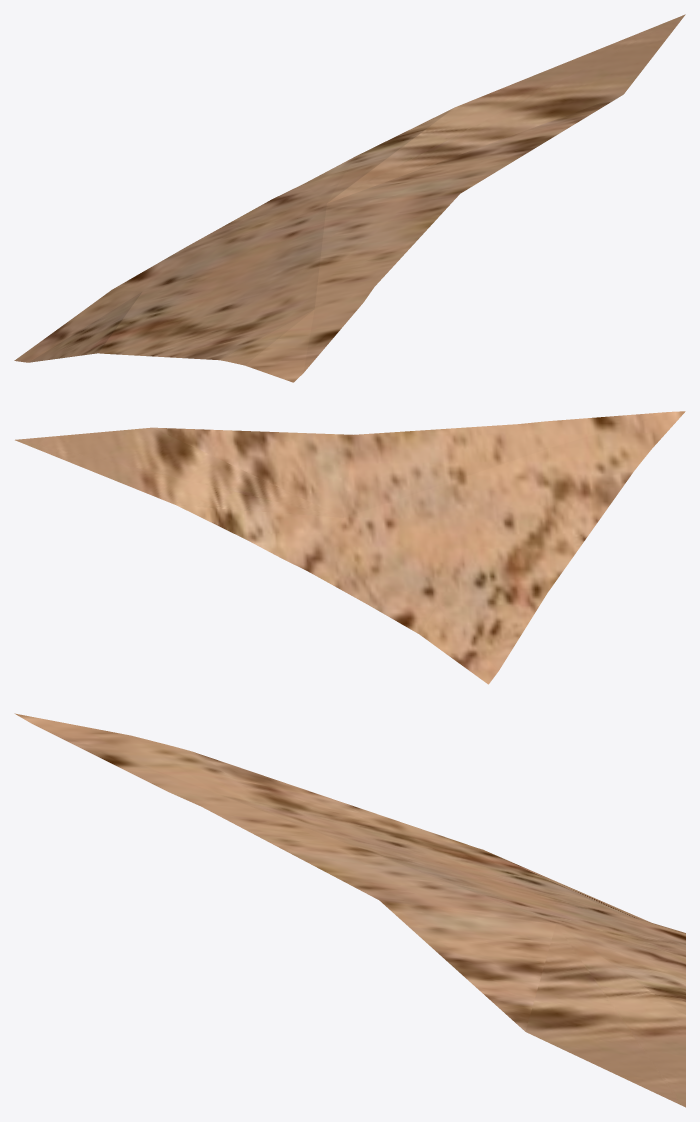
3 renders of one model, top to bottom at view 1: azimuth 30°, elevation 25°; view 2: azimuth 150°, elevation 25°; view 3: azimuth 270°, elevation 25°, orthographic. The views are drawn at different scales.
Bounding box in the file's own units: 0.4545 × 0.1181 × 0.3275.
Materials: 1 (1 with a texture image).
